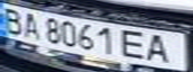0: (57, 19, 78, 48)
1: (93, 25, 118, 56)
6: (75, 21, 96, 52)
8: (39, 15, 63, 45)
A: (142, 32, 178, 65), (18, 10, 45, 39)
B: (0, 5, 27, 35)
E: (118, 28, 151, 61)
